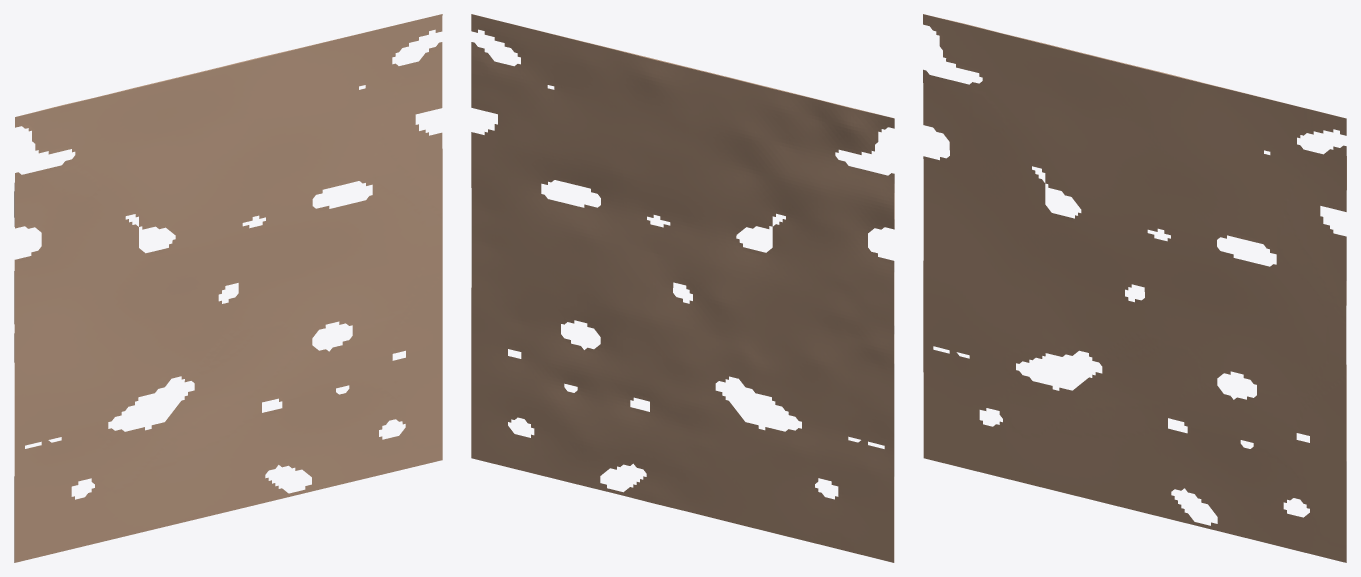
3 views of the same model, side by side, from view 1: azimuth 30°, elevation 25°; view 2: azimuth 150°, elevation 25°; view 3: azimuth 330°, elevation 25° (orthographic).
Visible parts, largest first — view 1: world; view 2: world; view 3: world.
Boxes of the visible parts, left/top/right/bottom form: world: left=14, top=14, right=442, bottom=562; world: left=471, top=14, right=894, bottom=562; world: left=923, top=14, right=1346, bottom=562.
Bounding box in the file's own units: 12800 × 12800 × 125.
